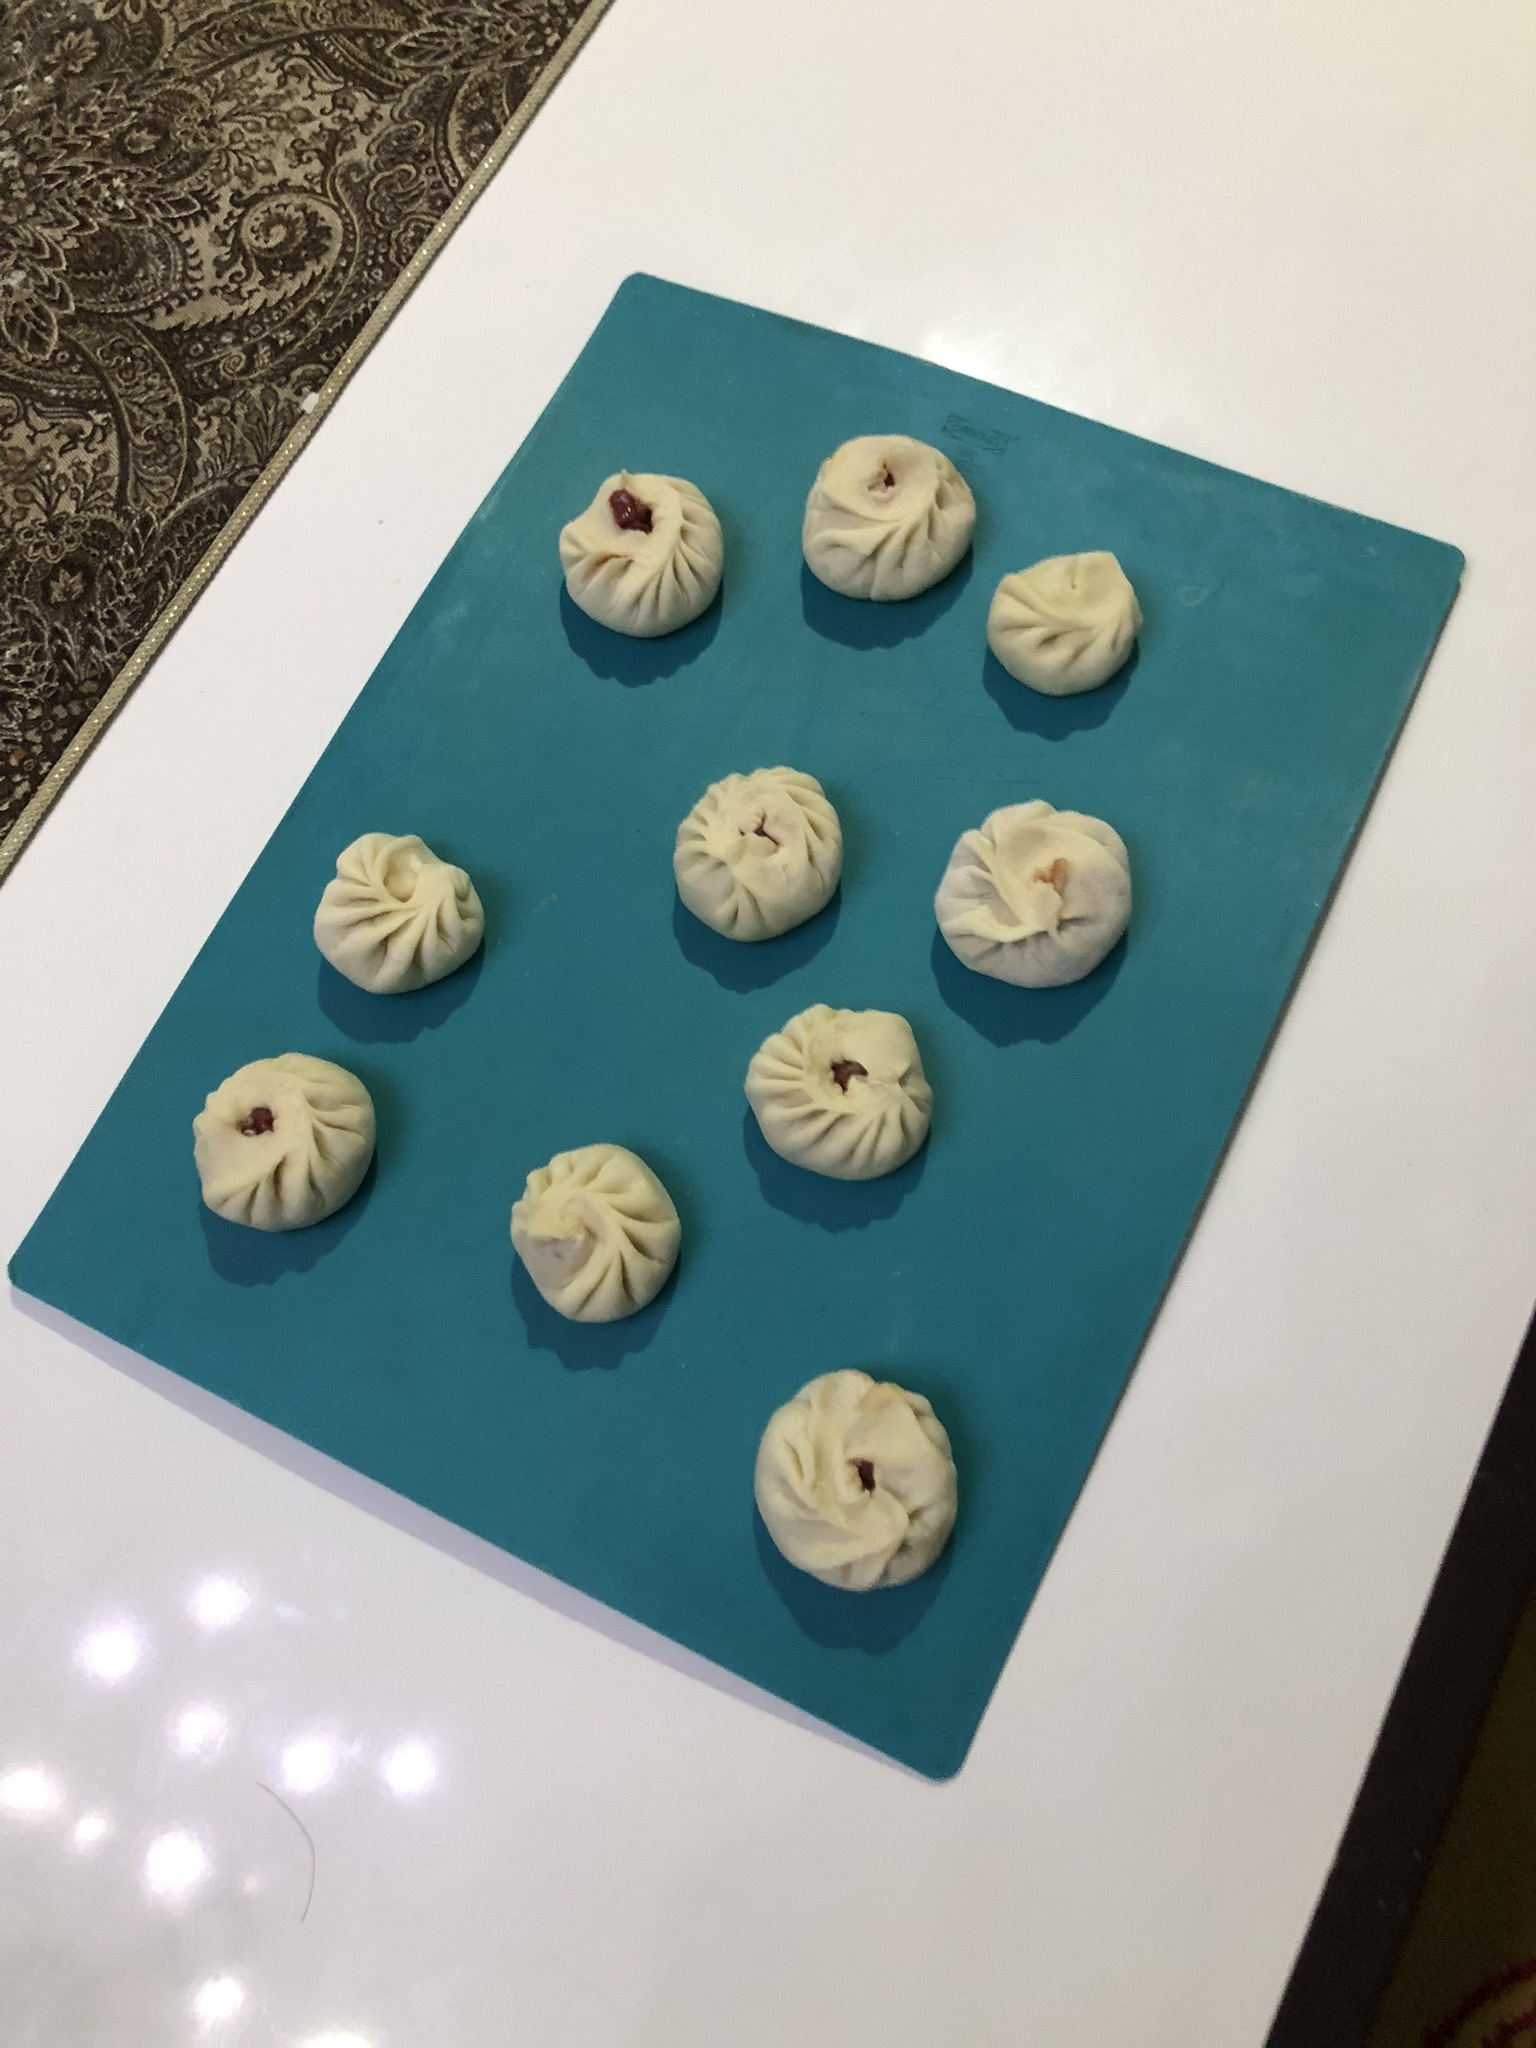buuz: (736, 1358, 987, 1601), (920, 789, 1150, 1006), (181, 1045, 390, 1250), (736, 993, 942, 1193), (502, 1134, 700, 1334), (662, 755, 852, 948), (787, 423, 983, 610), (303, 826, 502, 1003), (549, 464, 736, 651), (979, 543, 1150, 710)
